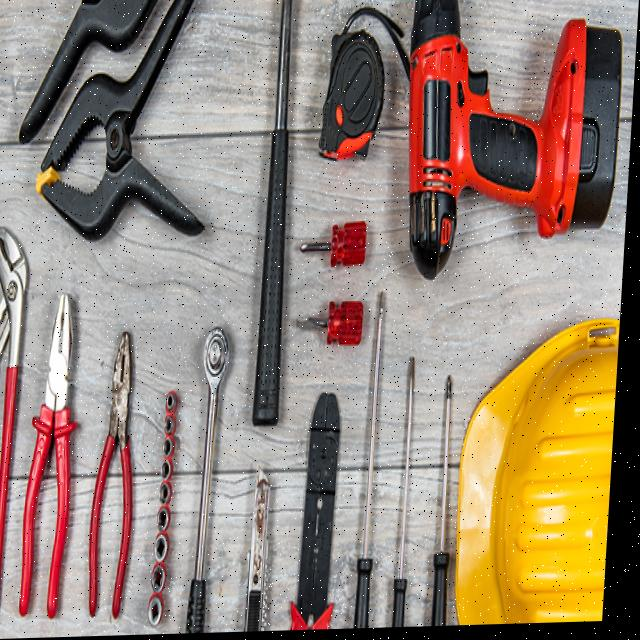Screwdriver: (362, 297, 388, 631), (400, 361, 420, 630), (439, 380, 457, 629), (301, 303, 368, 347), (304, 225, 369, 269)
